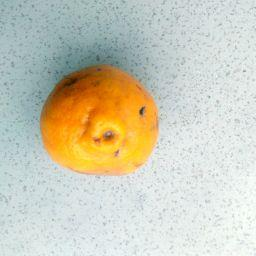Unripe: (39, 61, 159, 177)
